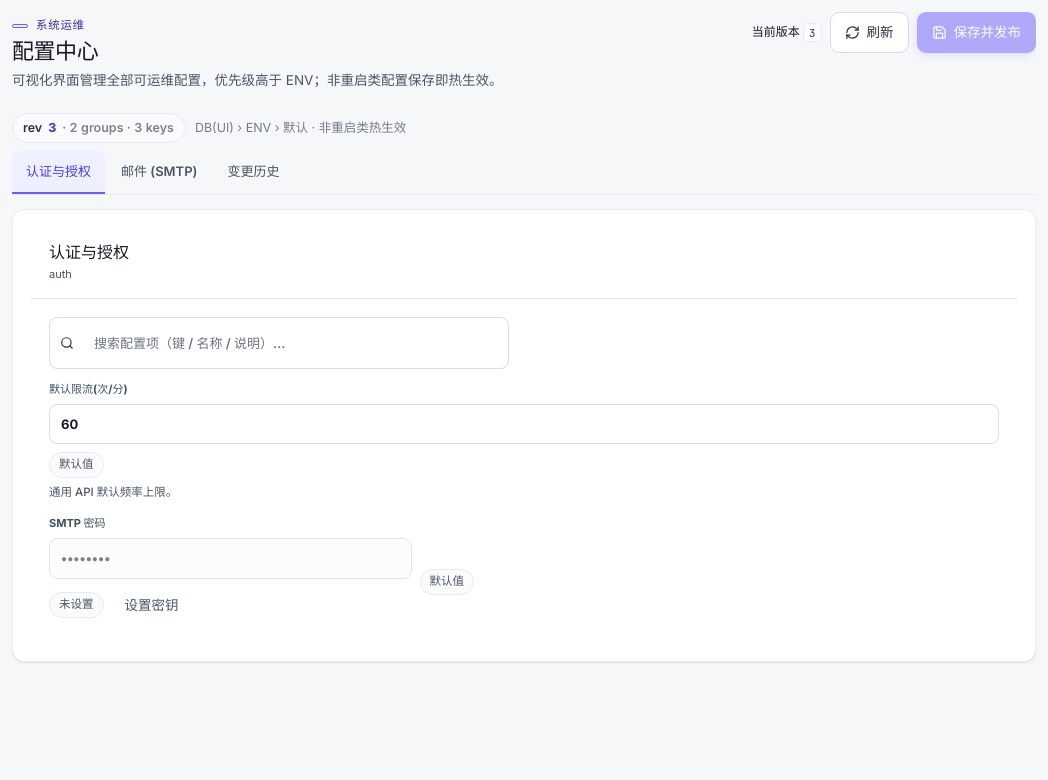
AdminPlatformConfigPage › 编辑整数字段后保存，PUT 携带数值类型并显示热生效提示
The width and height of the screenshot is (1048, 780).
Replace the text in the number field with test id "cfg-rate_limit_default_per_min" with "120" at (524, 424), box [49,404,999,444]
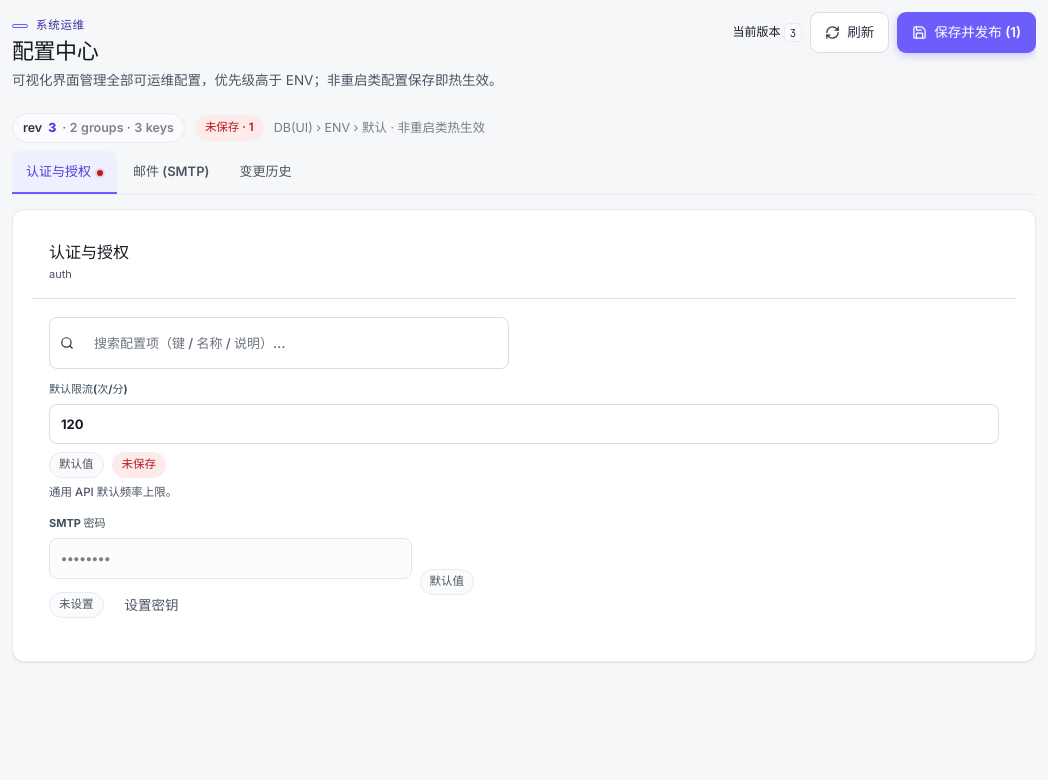
expect the text "未保存" is shown: met, box [112,452,166,478]
Click the button with test id "cfg-save" at (967, 32), box [897,12,1036,53]
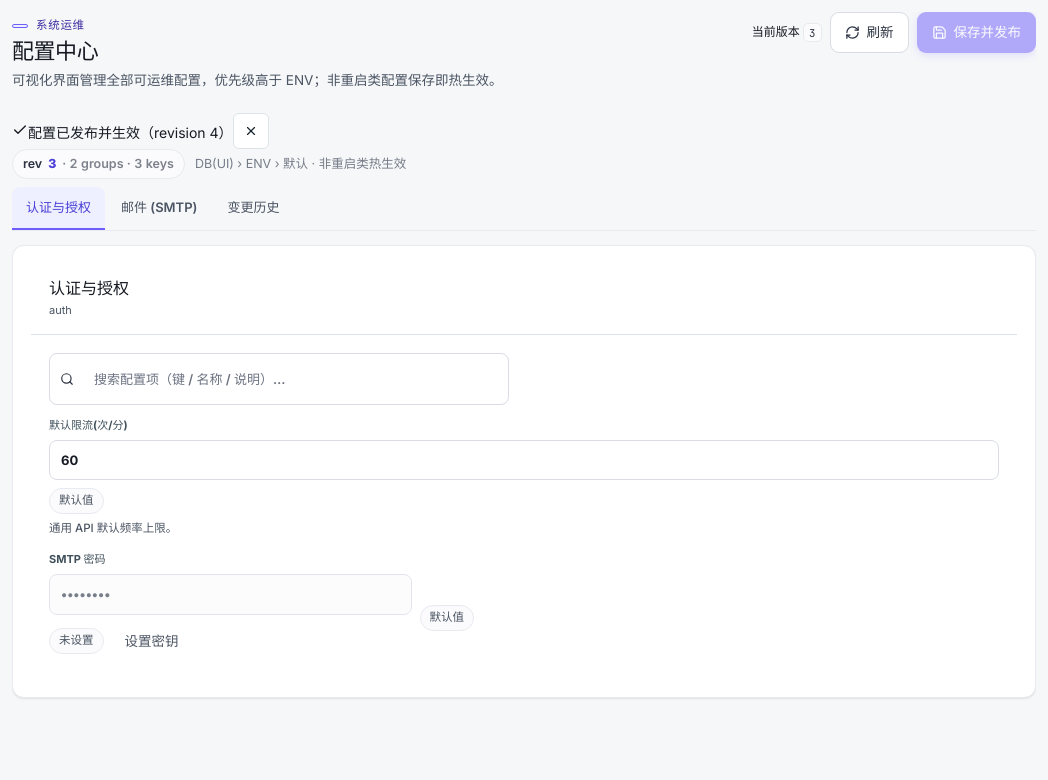
expect the text "配置已发布并生效（revision 4）" is shown: met, box [12,113,269,149]
